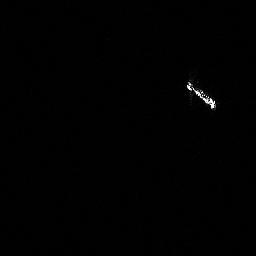ship: (184, 76, 219, 113)
